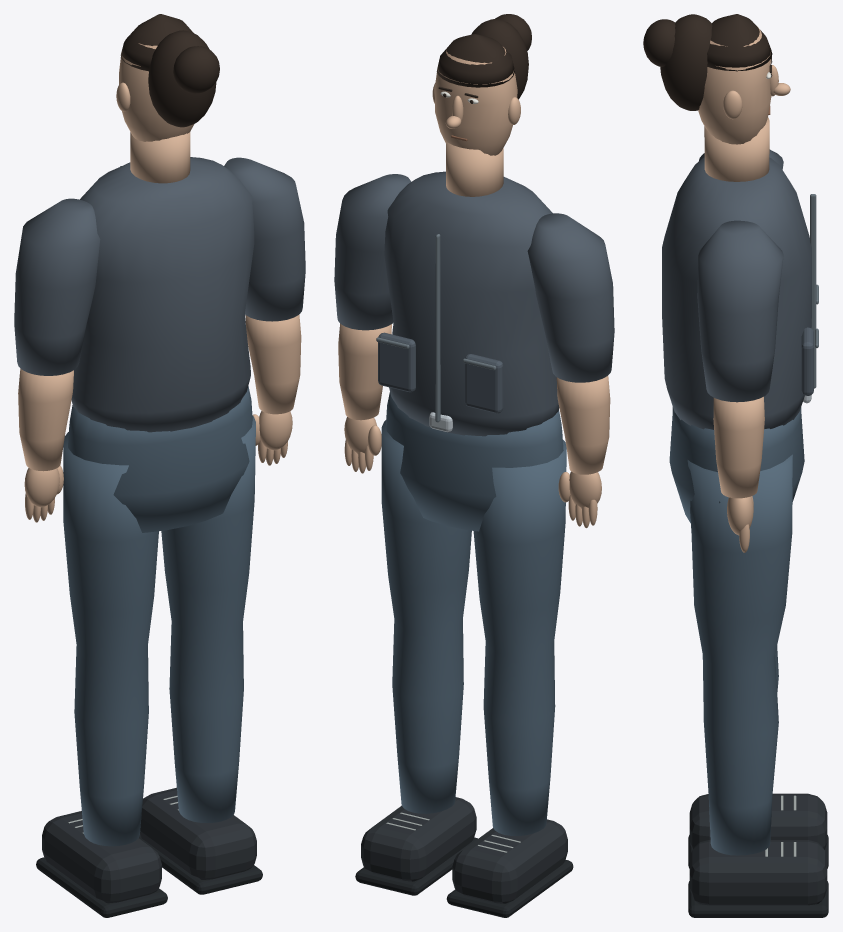
Rendered from Pedestrian_F.fbx.
3 views of the same model, side by side, from view 1: azimuth 30°, elevation 25°; view 2: azimuth 150°, elevation 25°; view 3: azimuth 270°, elevation 25° (orthographic). The views are drawn at different scales.
Visible parts, largest first — view 1: Body.017, Leg_L.002, Leg_R.002, Arm_L.002, Arm_R.002, Head.002; view 2: Body.017, Leg_L.002, Leg_R.002, Arm_L.002, Arm_R.002, Head.002; view 3: Leg_R.002, Body.017, Arm_R.002, Head.002, Leg_L.002.
Boxes of the visible parts, box(x1,y1,x2,y2) form: Body.017: box(68, 132, 254, 532); Leg_L.002: box(36, 432, 167, 917); Leg_R.002: box(139, 415, 262, 894); Arm_L.002: box(14, 198, 100, 522); Arm_R.002: box(224, 157, 305, 465); Head.002: box(116, 14, 219, 141); Body.017: box(376, 142, 563, 531); Leg_L.002: box(446, 440, 573, 917); Leg_R.002: box(355, 420, 477, 895); Arm_L.002: box(527, 213, 614, 528); Arm_R.002: box(334, 174, 411, 473); Head.002: box(432, 14, 531, 155); Leg_R.002: box(687, 454, 828, 917); Body.017: box(662, 117, 818, 522); Arm_R.002: box(697, 220, 783, 552); Head.002: box(643, 14, 790, 144); Leg_L.002: box(688, 645, 828, 868).
Size of the model in its own units: 0.604 by 1.78 by 0.346.
